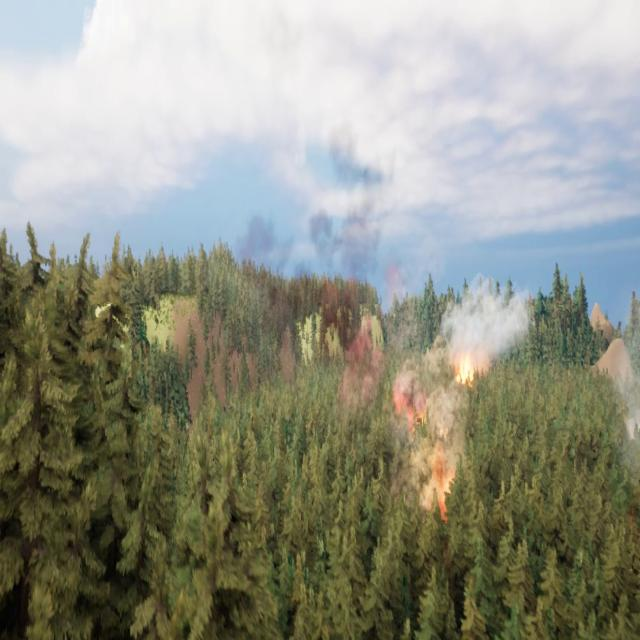fire: (395, 383, 467, 522), (456, 356, 480, 395)
smoke: (238, 116, 402, 404), (433, 280, 530, 354)
